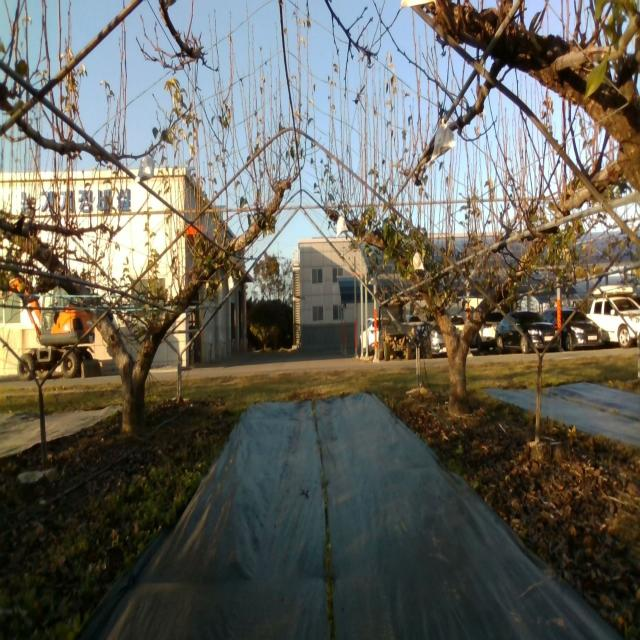pearbags: (430, 118, 457, 164), (136, 156, 155, 183), (336, 216, 349, 239)
